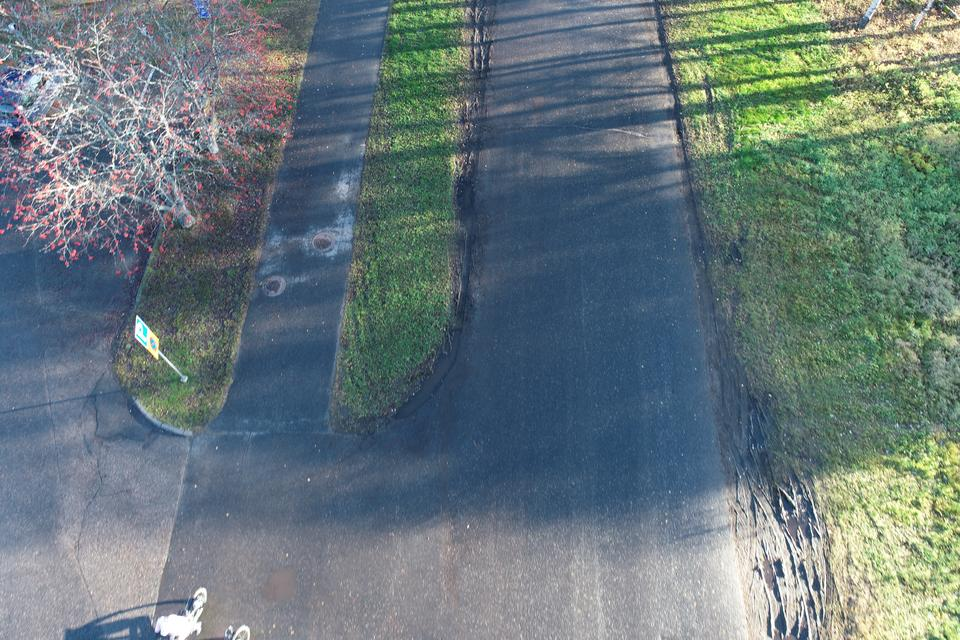intersection: (0, 287, 872, 640)
